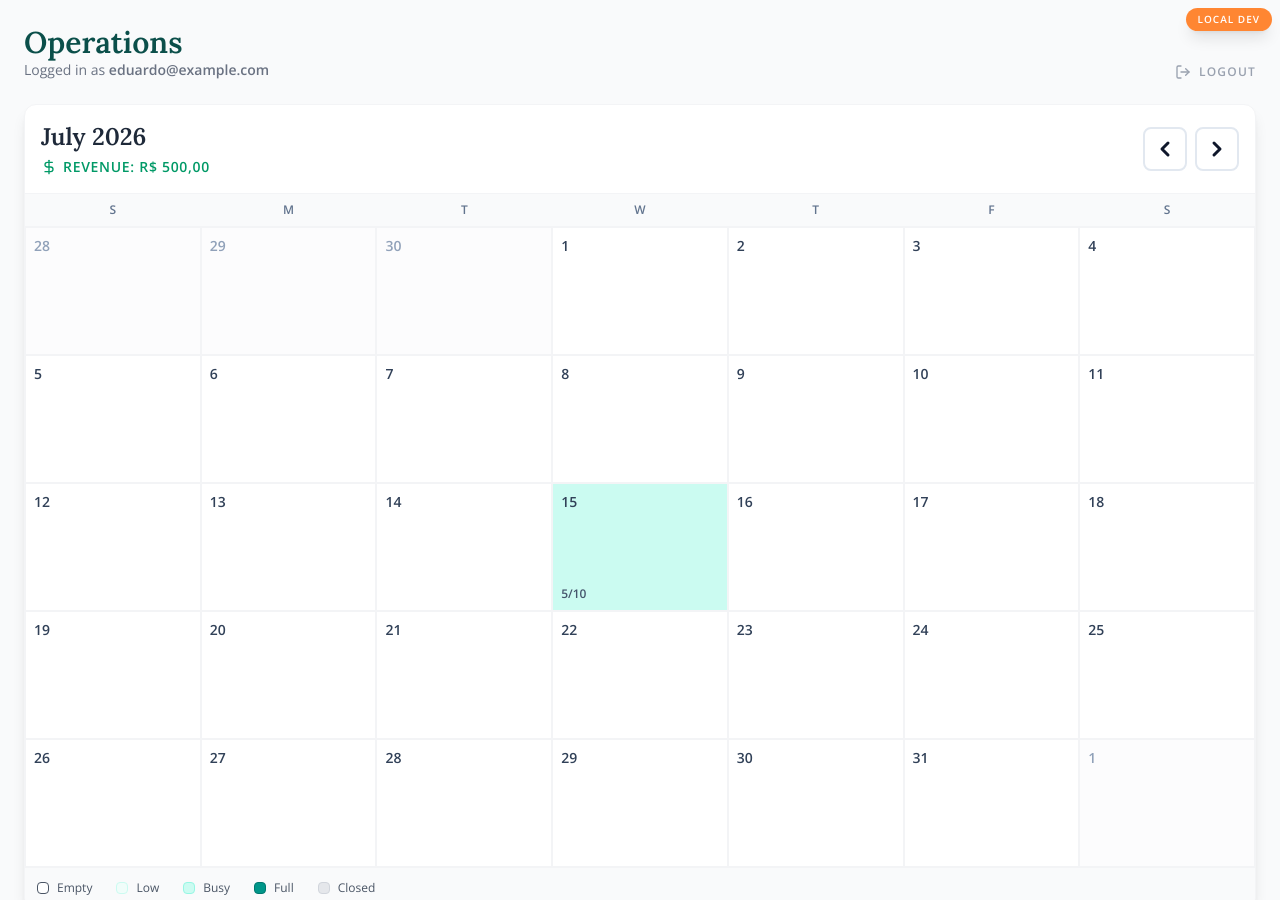
Test: Dashboard Page Integration › clicking an active date opens the manifest and shows tours
The image size is (1280, 900).
Expected: the heading "Operations" is shown, x1=24 y1=23 x2=182 y2=61
What coordinates should you click on to do the following:
click the text "15"
I would click on:
 (569, 502)
Its box is x1=561 y1=492 x2=577 y2=512.
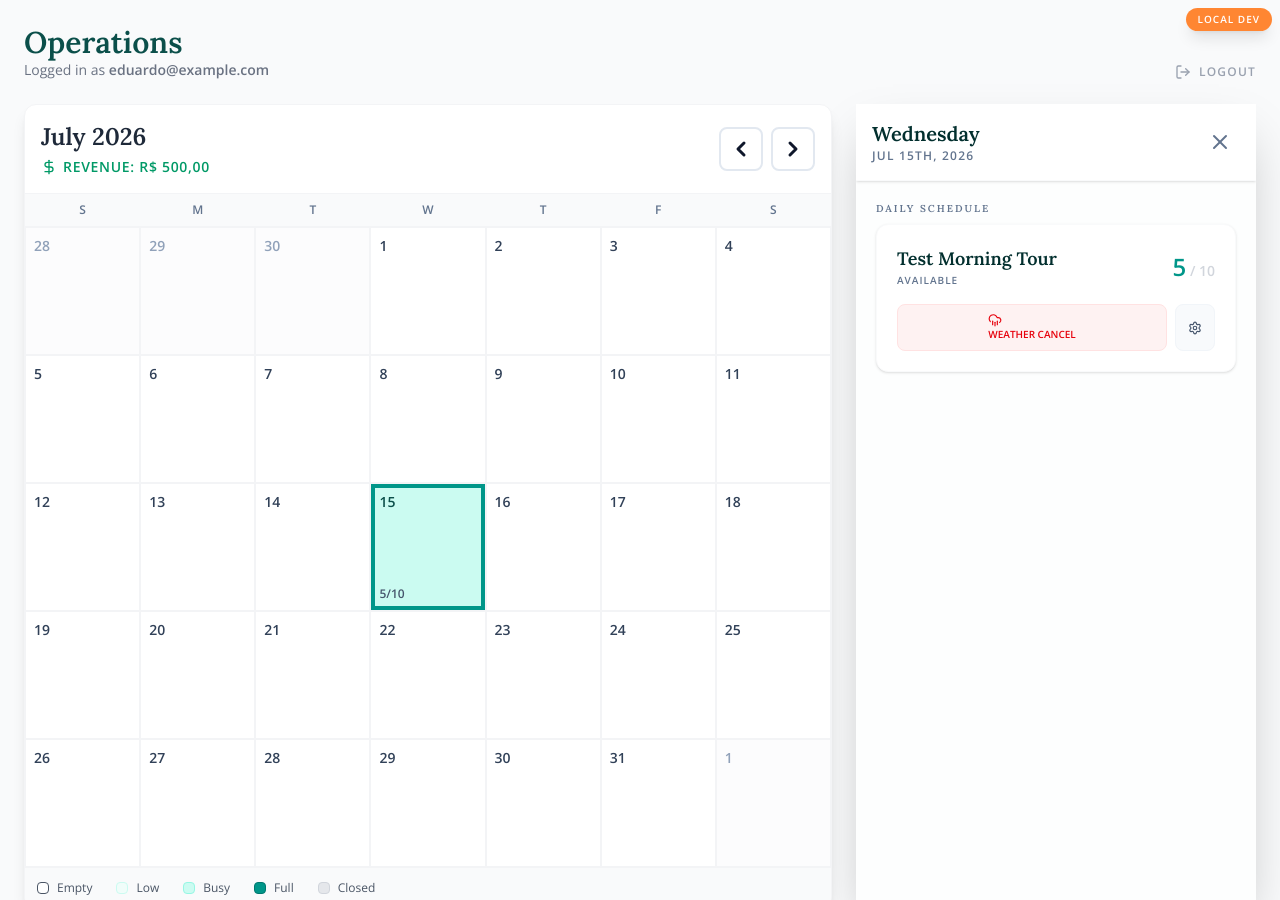
Expected: the heading "Test Morning Tour" is shown, x1=897 y1=245 x2=1057 y2=273
Expected: the heading "Daily Schedule" is shown, x1=876 y1=202 x2=990 y2=215
